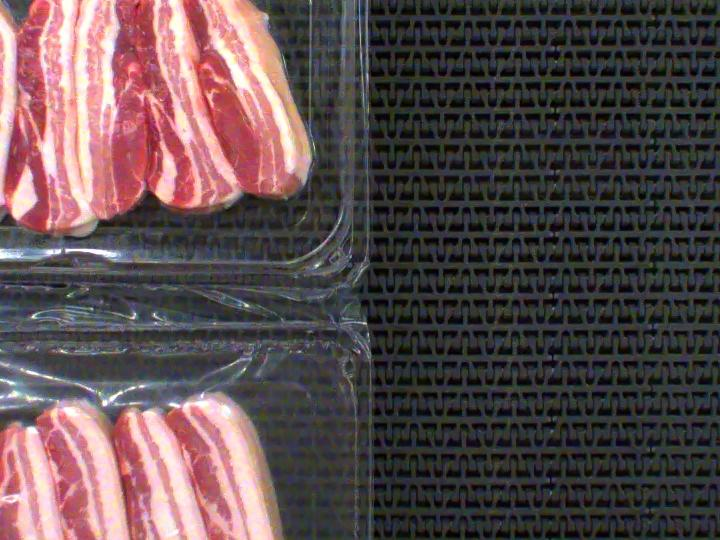unsealed: (0, 322, 334, 540)
